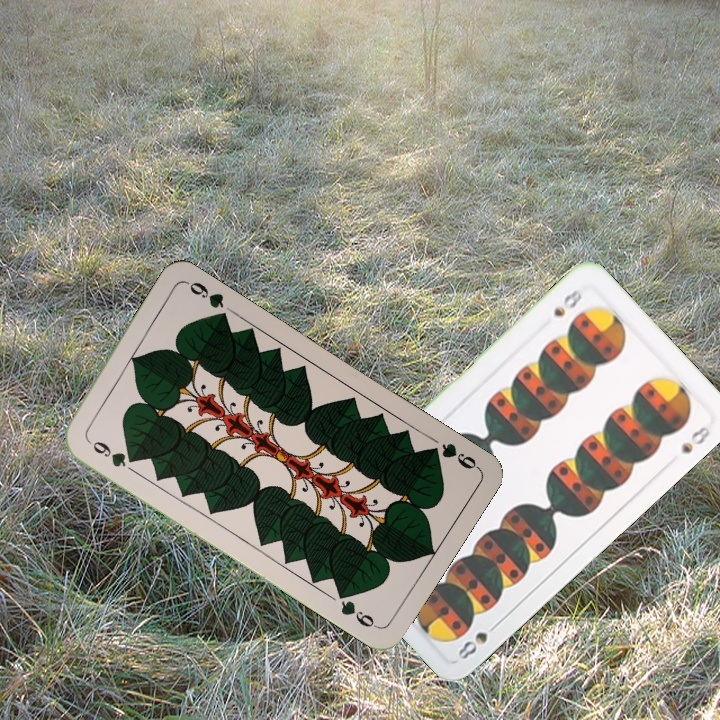G9: (83, 435, 139, 470), (422, 439, 481, 472)
S8: (453, 617, 503, 662), (549, 285, 585, 320)
